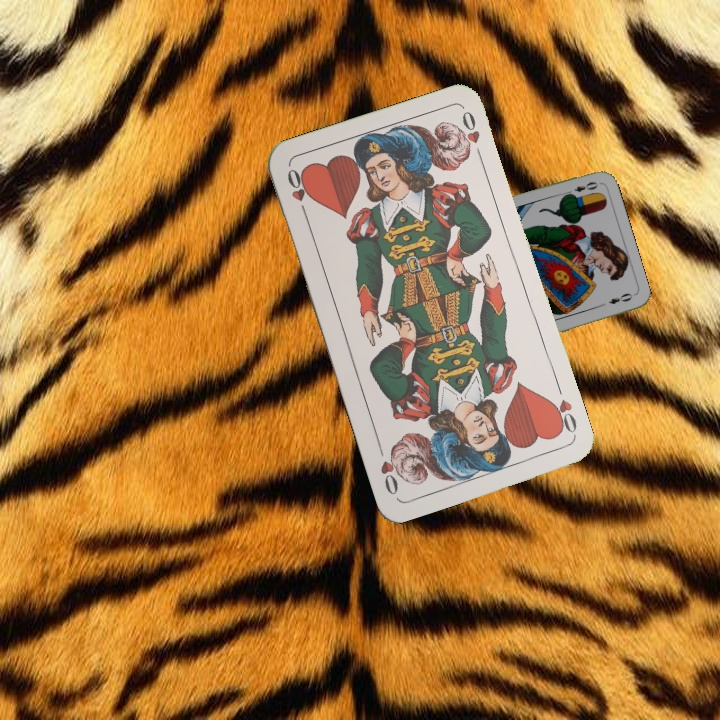EO: (561, 178, 601, 198)
HO: (283, 164, 312, 221), (545, 395, 580, 439)
